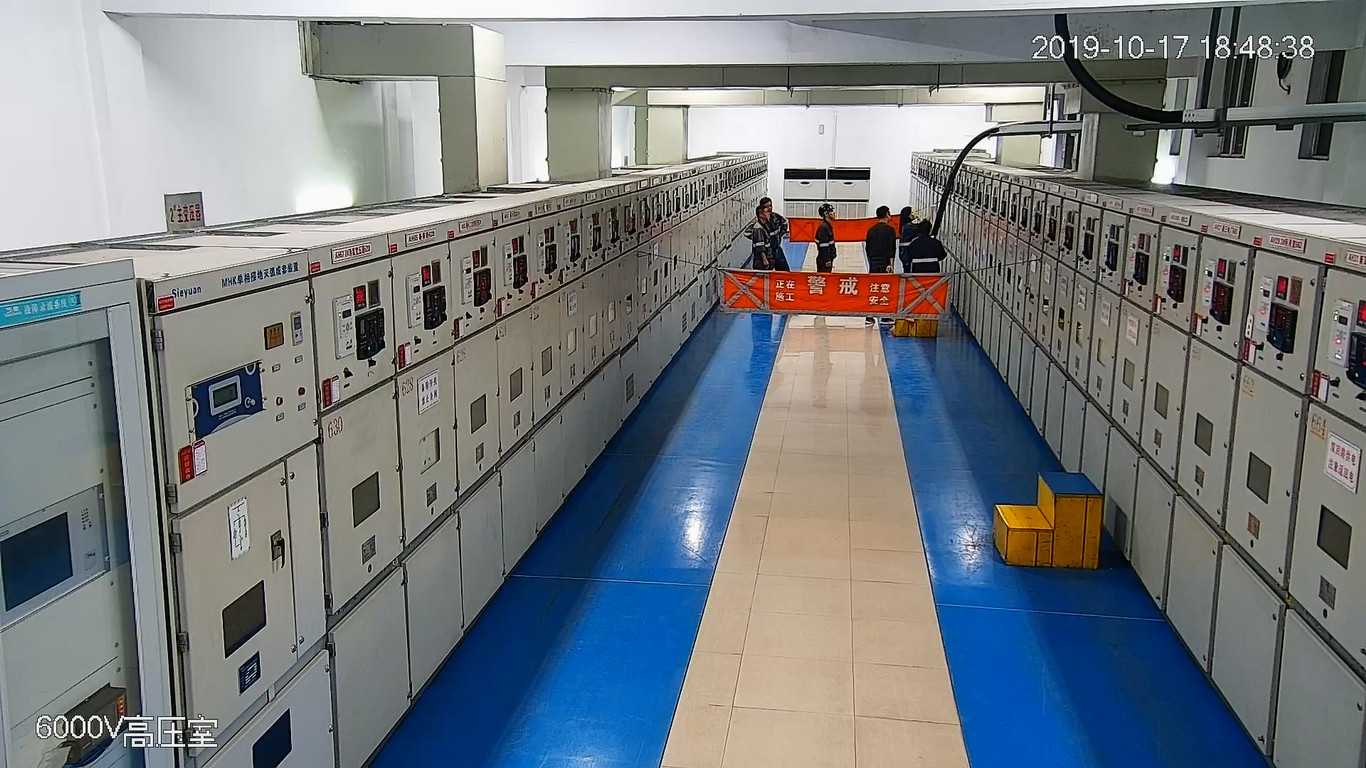helmet: (818, 202, 835, 217)
